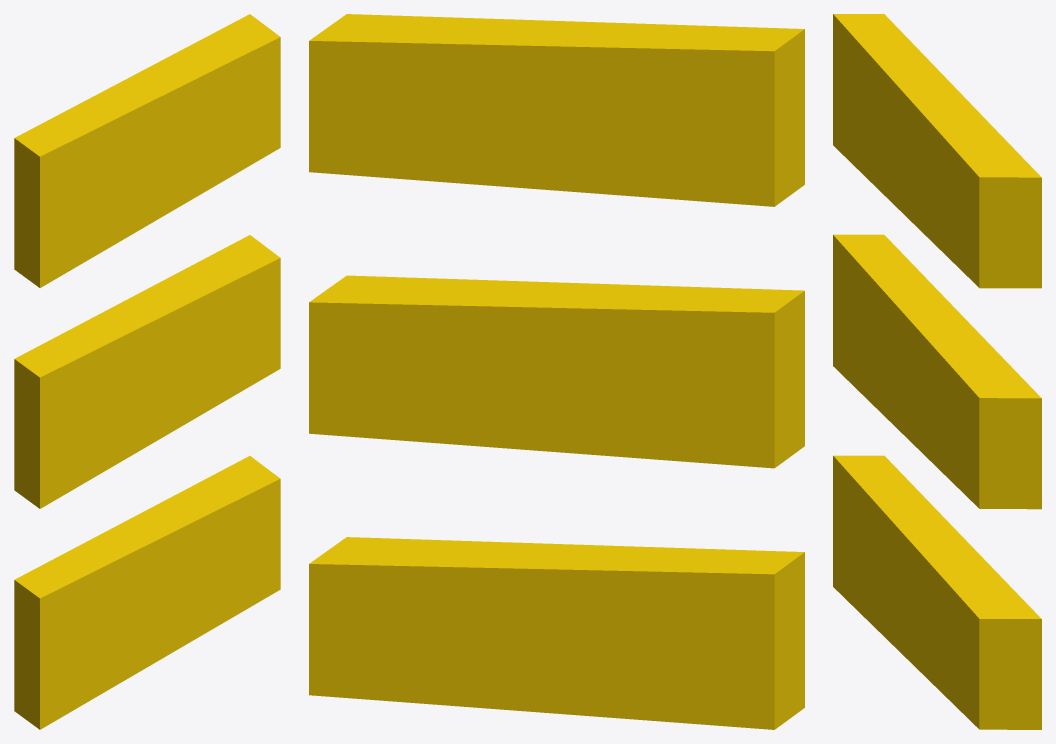
File: light.dae
3 renders of one model, left to right at view 1: azimuth 30°, elevation 25°; view 2: azimuth 150°, elevation 25°; view 3: azimuth 270°, elevation 25°, orthographic. The views are drawn at different scales.
Visible parts, largest first — view 1: light; view 2: light; view 3: light.
Part boxes in pixels (bbox=[...]): light: bbox=[14, 14, 280, 729]; light: bbox=[309, 14, 804, 729]; light: bbox=[833, 14, 1041, 729].
Bounding box in the file's own units: 5.93 × 3.41 × 10.34.
Materials: 1 (1 with a texture image).
